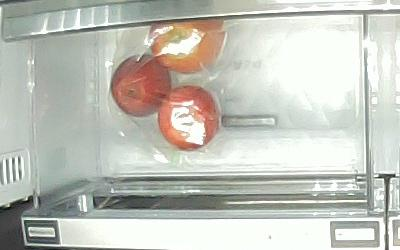apple_vinyl: (149, 20, 226, 74), (158, 86, 222, 149), (111, 54, 172, 118)
